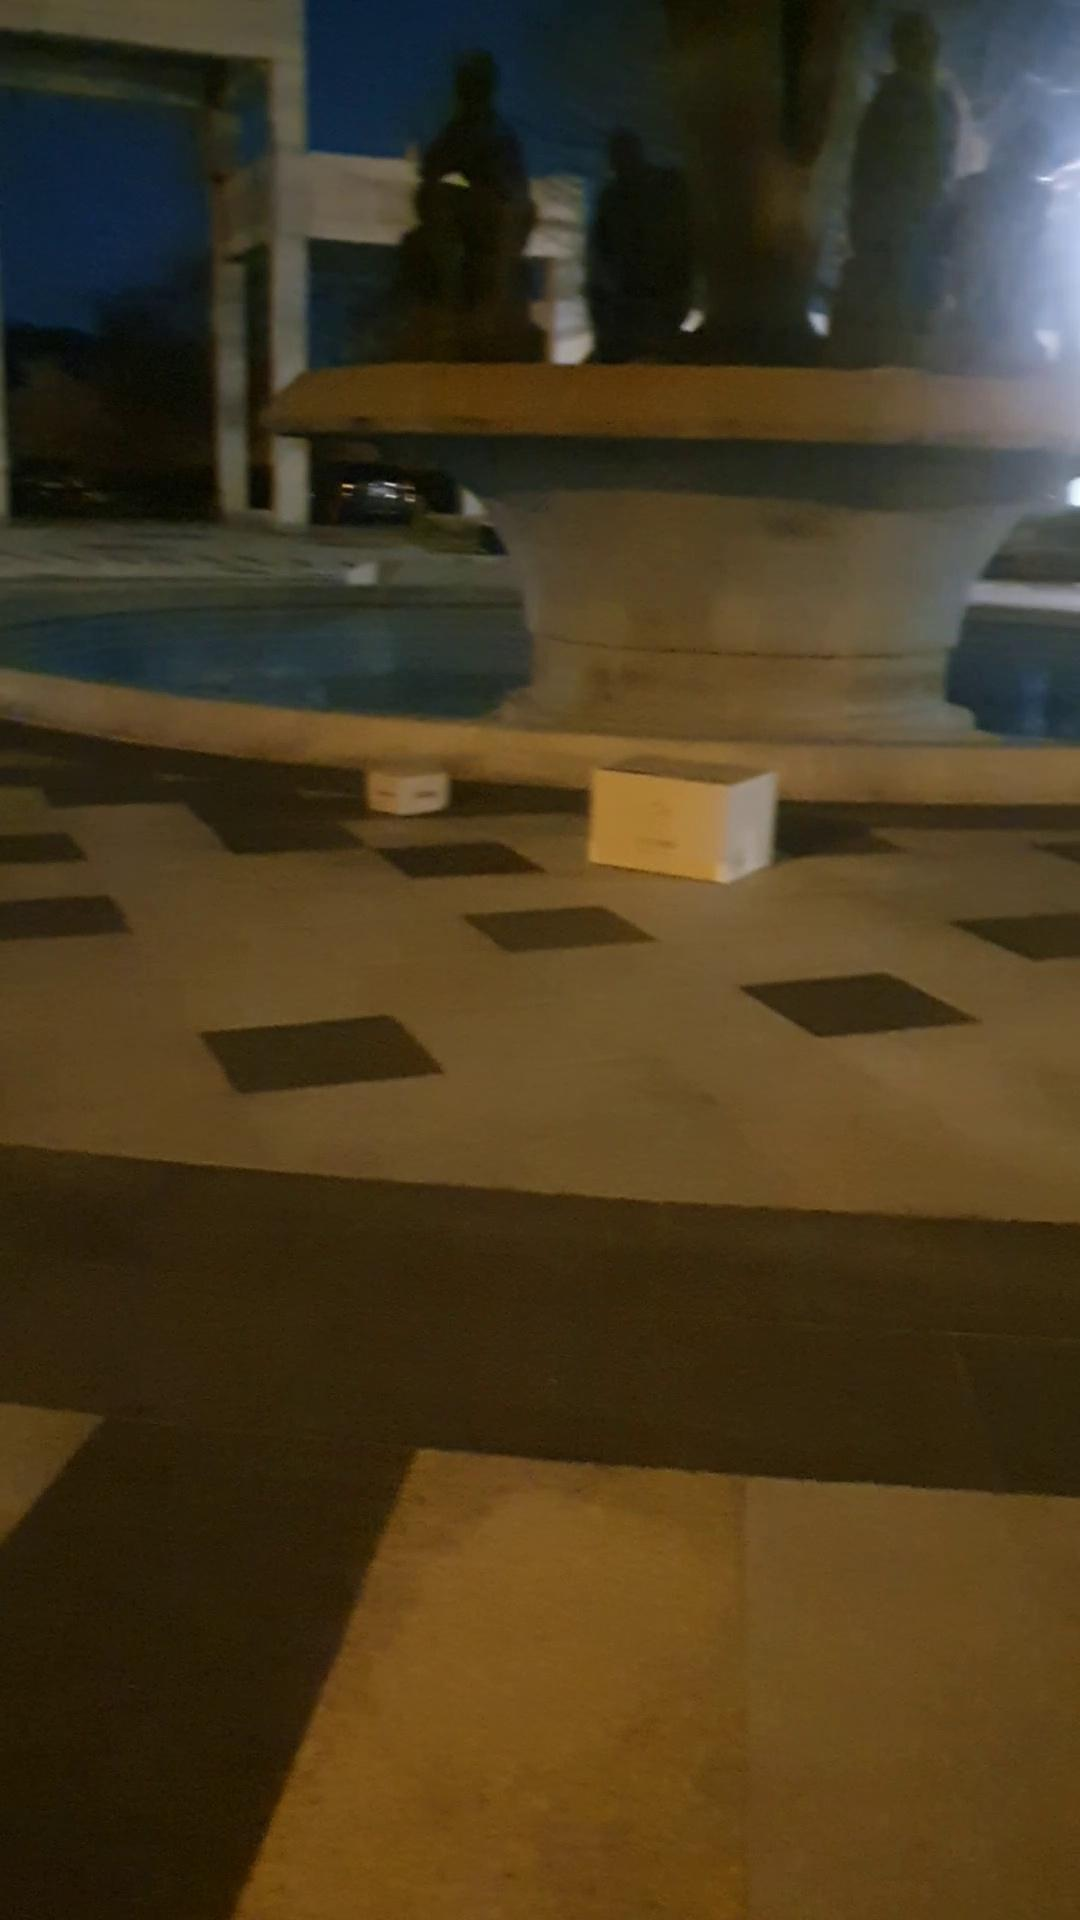Box: (591, 753, 775, 885), (343, 758, 465, 833)
